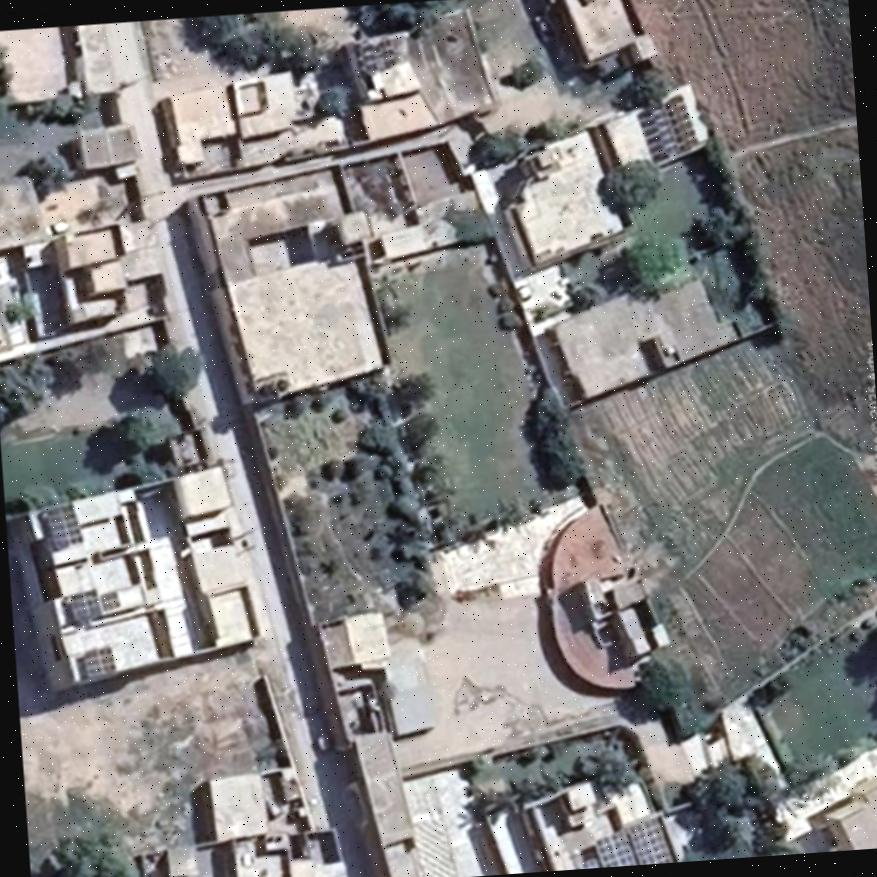Solarpanel: (595, 817, 671, 867), (43, 504, 82, 549), (647, 104, 680, 153), (79, 644, 115, 677), (68, 587, 99, 619)
